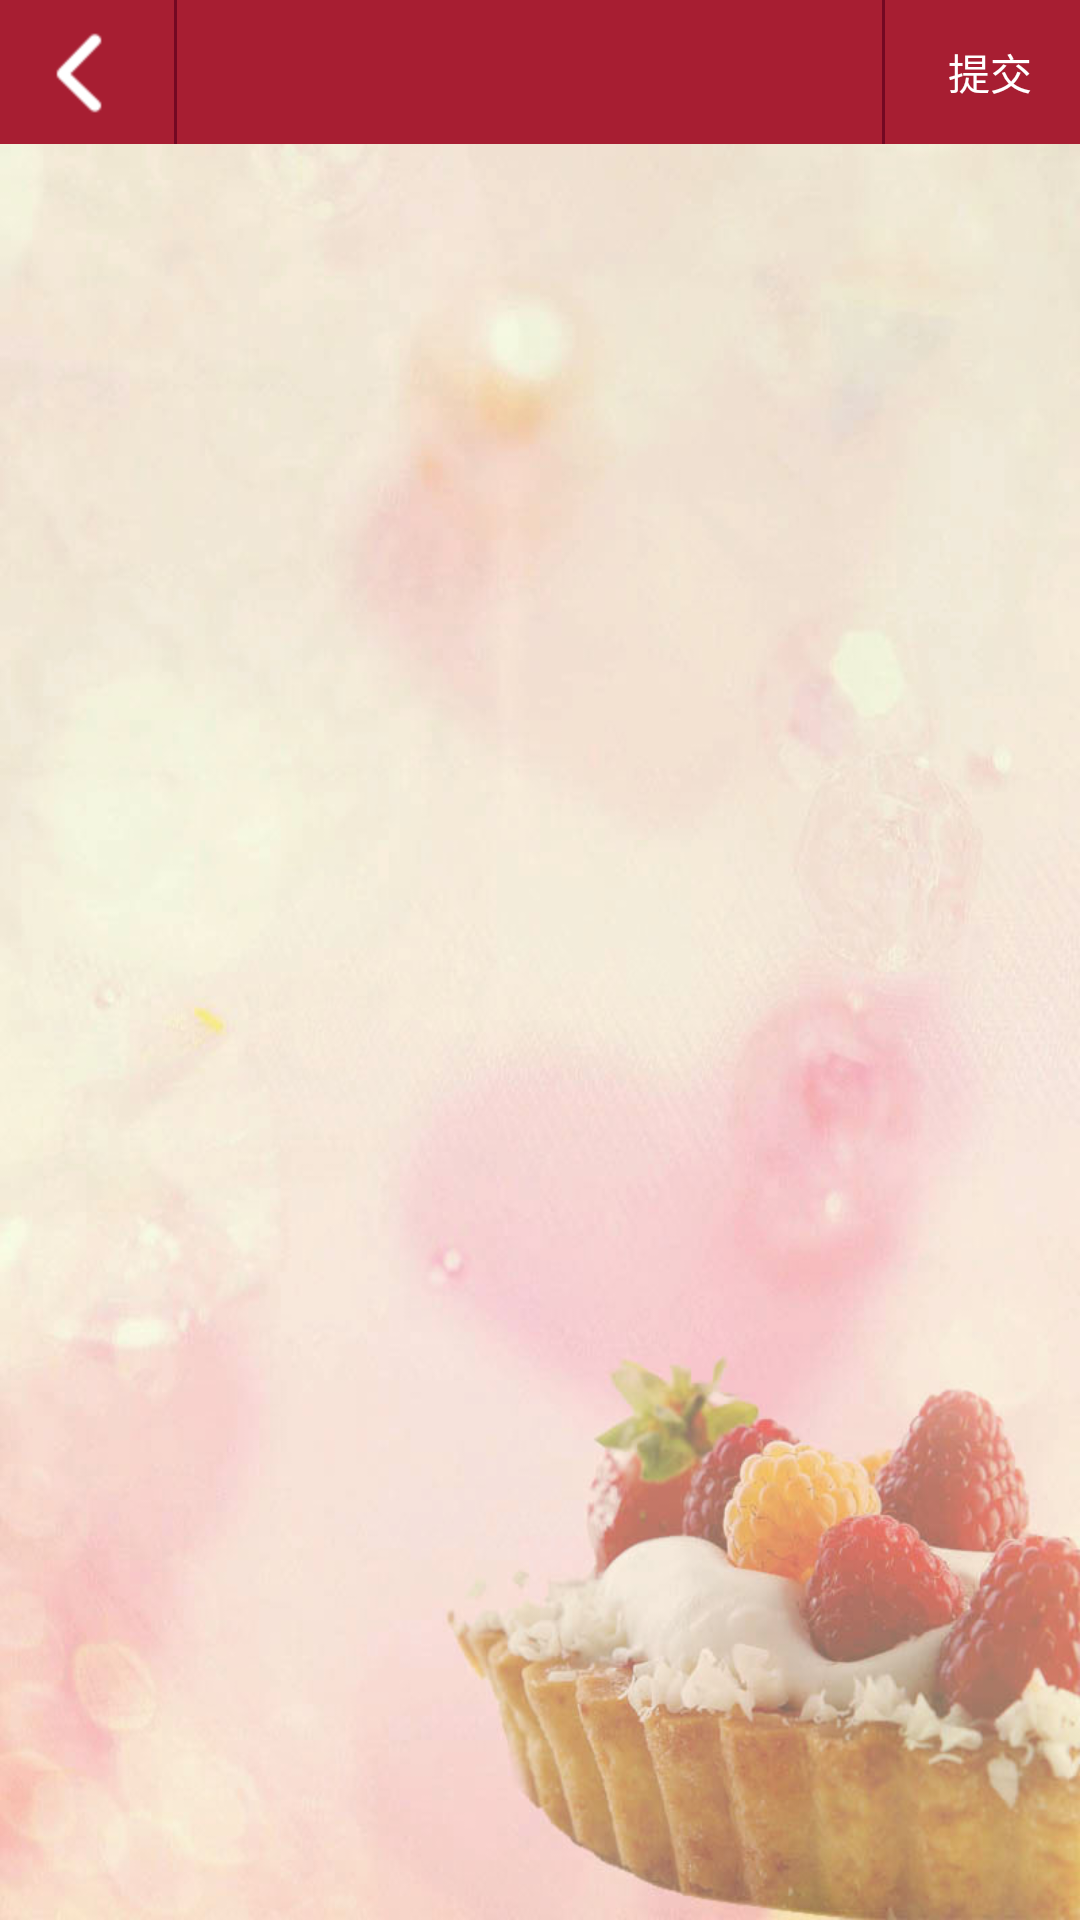

Where to tap for icons on this 1080px x 1920px app screen, as point (x, y):
back: point (87, 72)
